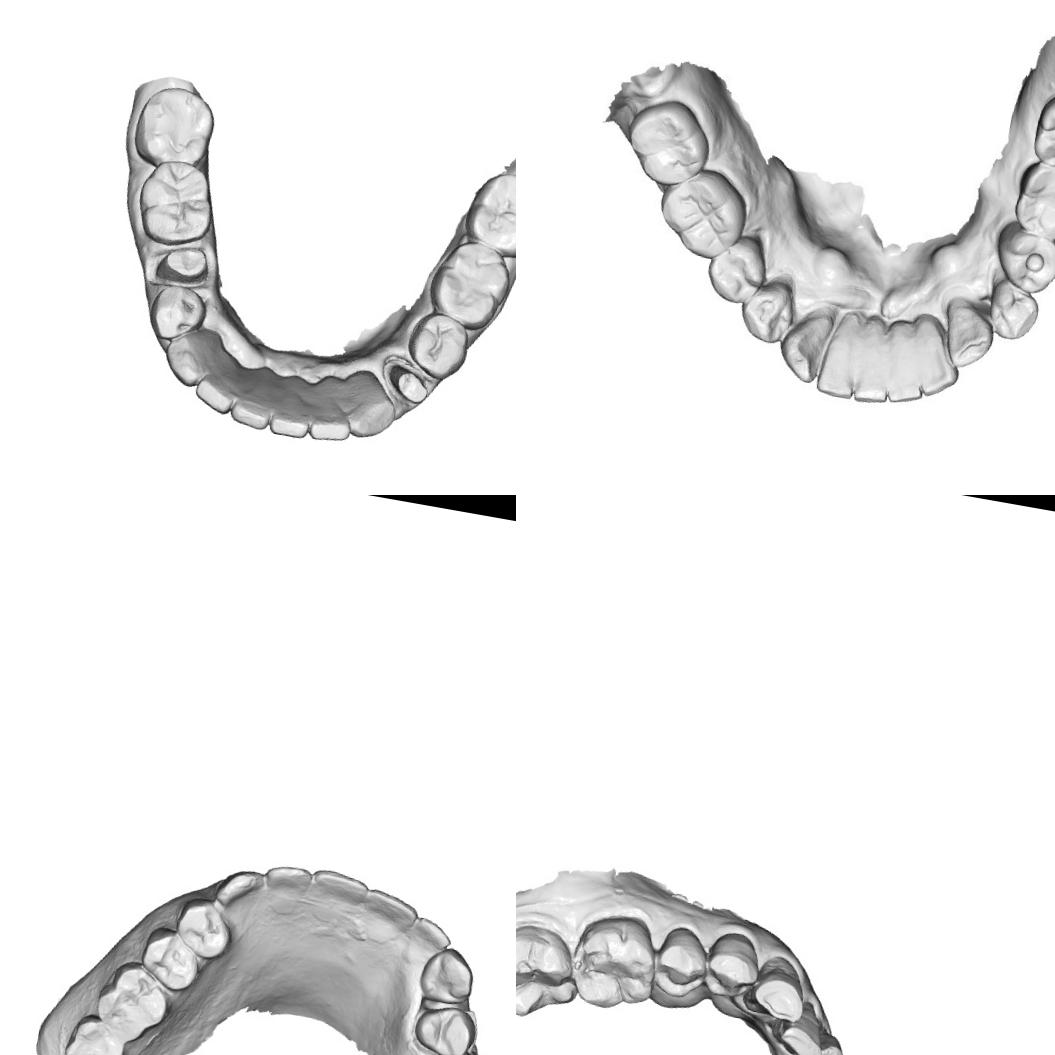canine: (774, 302, 836, 386), (741, 956, 810, 1025), (414, 943, 480, 1008), (942, 297, 1000, 367), (343, 374, 401, 442), (160, 326, 214, 390), (211, 864, 268, 914)
crown: (152, 241, 211, 289), (380, 359, 434, 410)
incisor: (813, 304, 872, 398), (905, 313, 970, 397), (848, 310, 901, 404), (880, 316, 935, 404), (307, 379, 358, 448), (189, 361, 245, 416), (226, 374, 276, 432), (360, 886, 422, 930), (771, 1010, 828, 1055), (268, 388, 316, 441), (308, 865, 370, 904), (262, 856, 314, 898), (411, 914, 454, 951), (810, 1032, 854, 1055)
molar: (565, 904, 666, 1016), (130, 156, 221, 254), (128, 80, 220, 175), (427, 236, 516, 333), (654, 171, 747, 259), (620, 99, 710, 189), (516, 915, 585, 1026), (92, 955, 176, 1039), (464, 166, 516, 256), (1013, 159, 1055, 239), (58, 1008, 129, 1055), (1029, 94, 1055, 175)
premolar: (650, 922, 714, 1002), (404, 307, 472, 382), (136, 923, 206, 994), (700, 927, 761, 1006), (700, 235, 770, 302), (146, 277, 212, 346), (170, 893, 236, 962), (984, 270, 1044, 342), (739, 276, 800, 344), (996, 223, 1055, 293), (408, 1000, 482, 1055)
